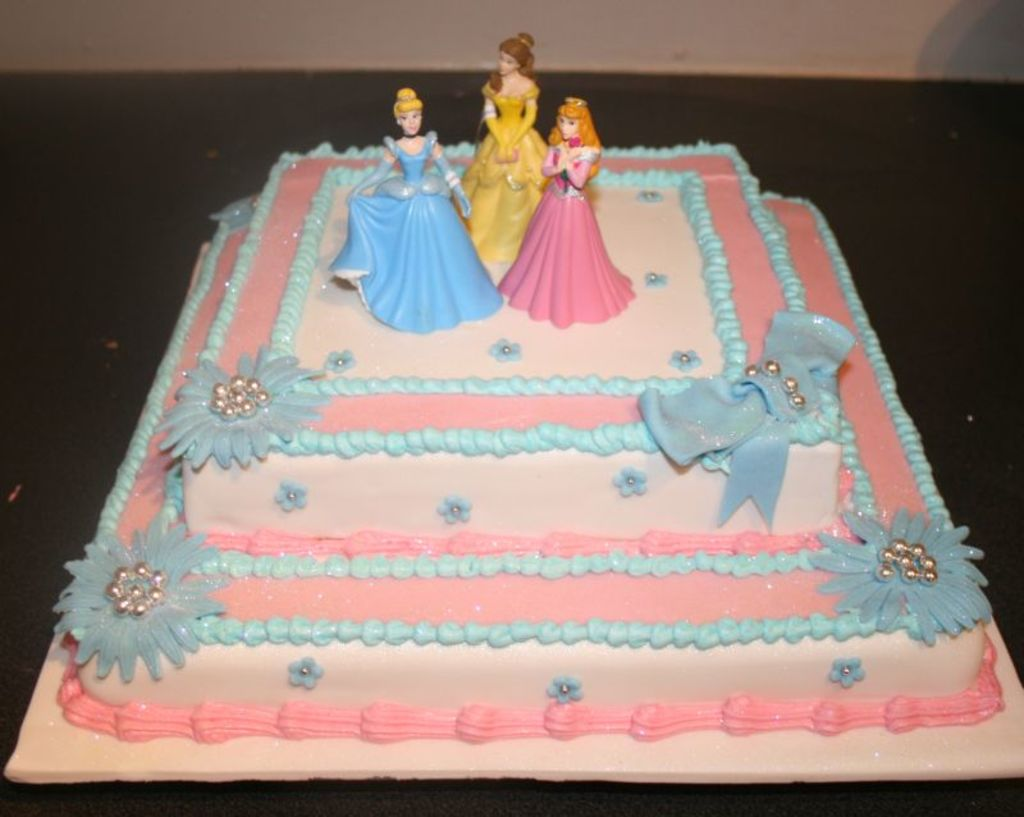cake: (54, 35, 986, 740)
